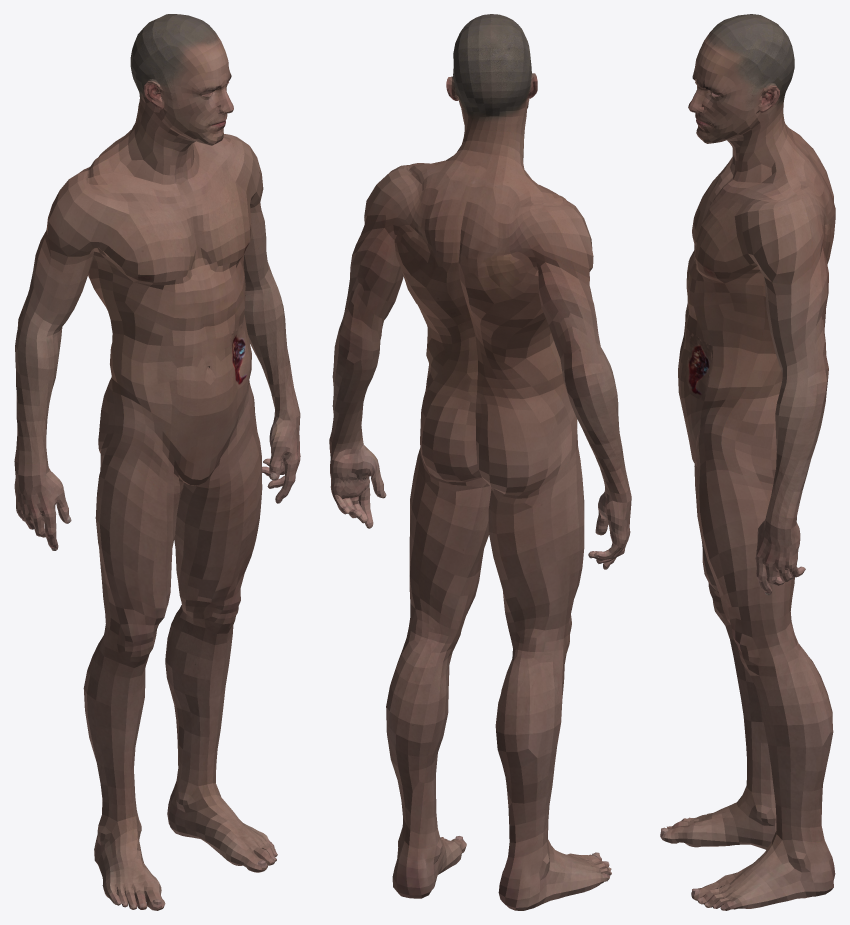
File: Zmogaus kunas.obj
3 views of the same model, side by side, from view 1: azimuth 30°, elevation 25°; view 2: azimuth 150°, elevation 25°; view 3: azimuth 270°, elevation 25° (orthographic).
Visible parts, largest first — view 1: Body_Posed.obj; view 2: Body_Posed.obj; view 3: Body_Posed.obj.
Part boxes in pixels (x1,y1,x2,y2): Body_Posed.obj: [14, 14, 300, 910]; Body_Posed.obj: [329, 14, 631, 910]; Body_Posed.obj: [660, 14, 835, 910].
Size of the model in its own units: 0.6467 by 1.83 by 0.34.
